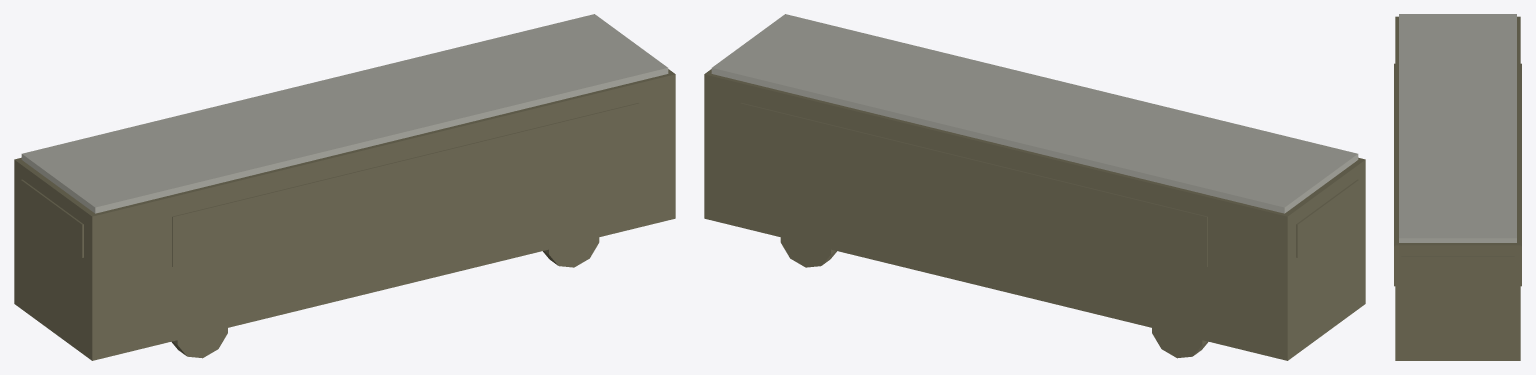
File: SM_AutobusCruzado_v3_Quemado_LOD0.fbx
3 renders of one model, left to right at view 1: azimuth 30°, elevation 25°; view 2: azimuth 150°, elevation 25°; view 3: azimuth 270°, elevation 25°, orthographic. The views are drawn at different scales.
Parts seen in each view (by area): view 1: SM_aqui_paso_algo_v18_LOD0; view 2: SM_aqui_paso_algo_v18_LOD0; view 3: SM_aqui_paso_algo_v18_LOD0.
Part boxes in pixels (box(x1,y1,x2,y2)): SM_aqui_paso_algo_v18_LOD0: box(14, 14, 675, 360); SM_aqui_paso_algo_v18_LOD0: box(704, 14, 1365, 360); SM_aqui_paso_algo_v18_LOD0: box(1394, 14, 1521, 360).
Size of the model in its own units: 11.06 by 3.16 by 2.6.
